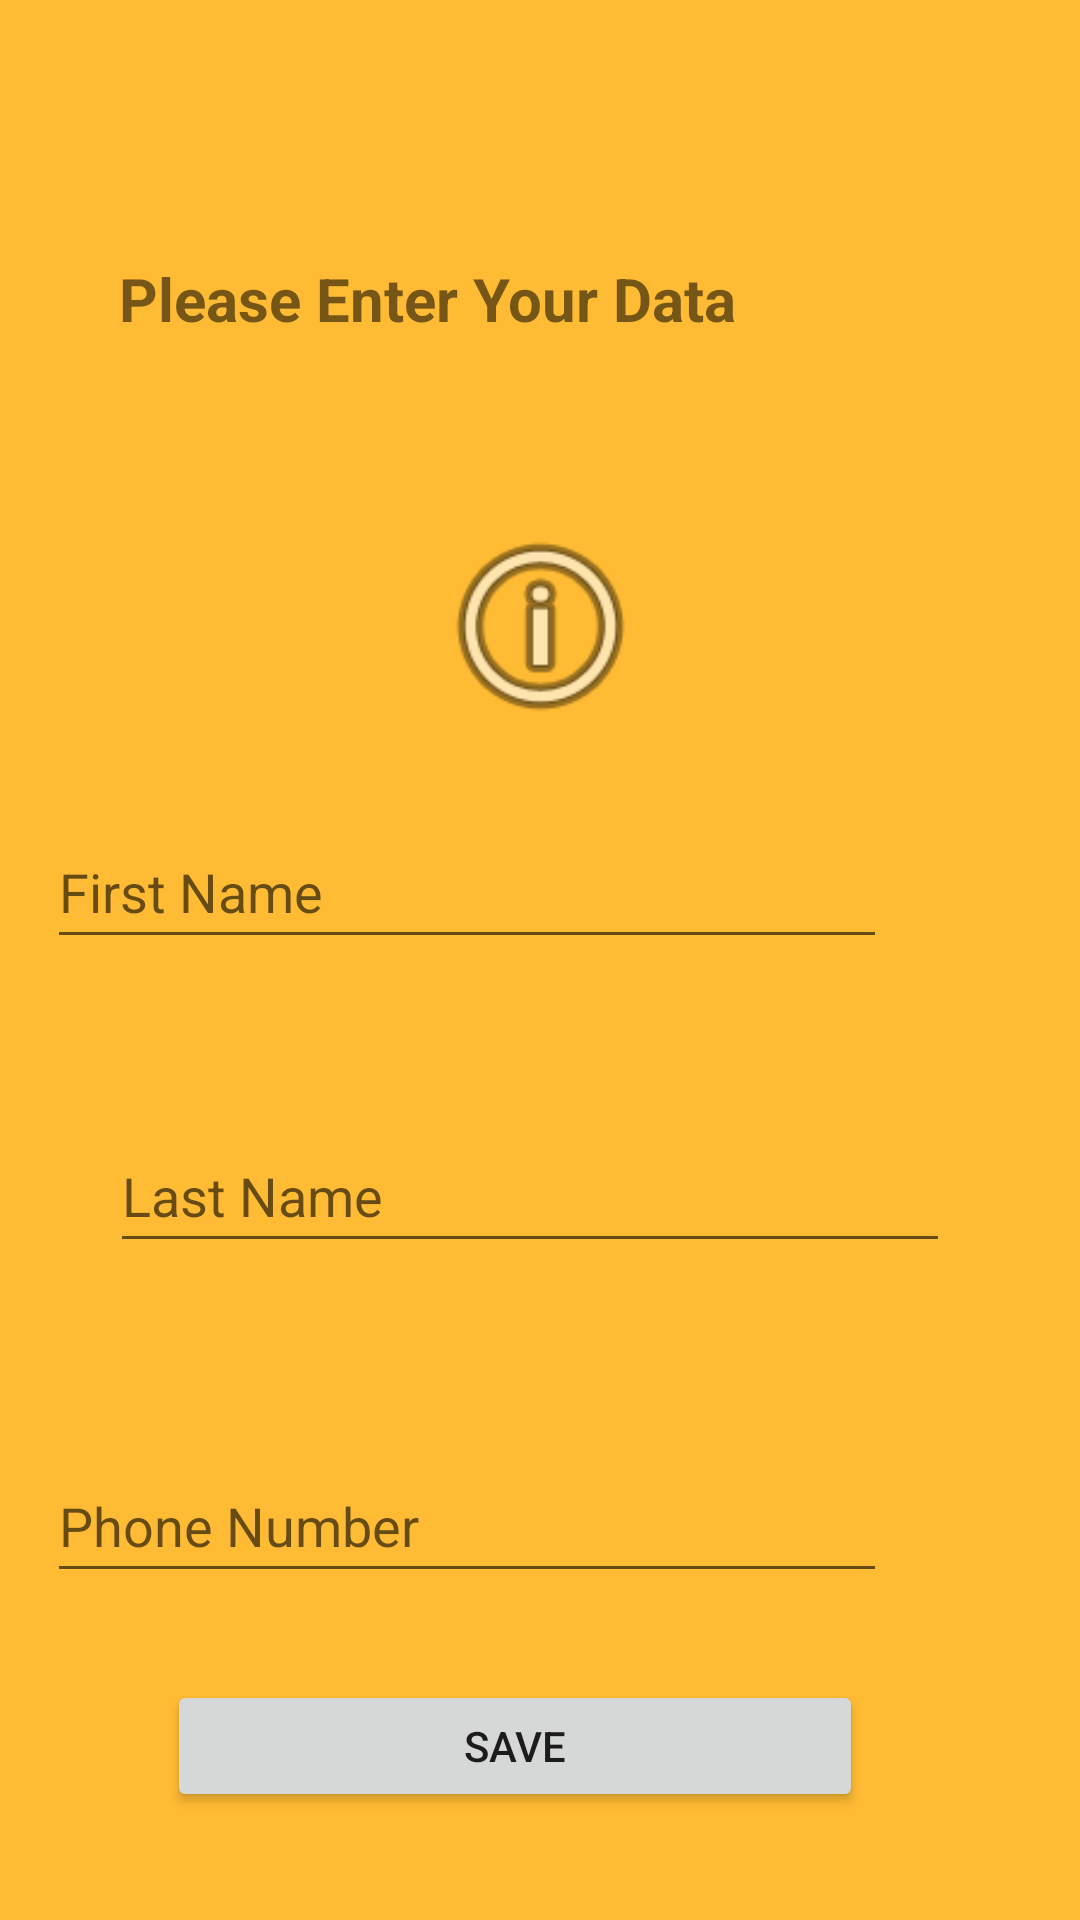

Screen size 1080px×1920px. Icon name, then its center in pixels as (x,y):
info details: (540,626)
